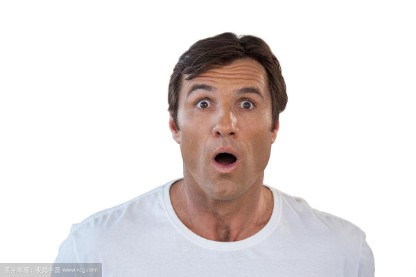张嘴: (208, 145, 242, 174)
